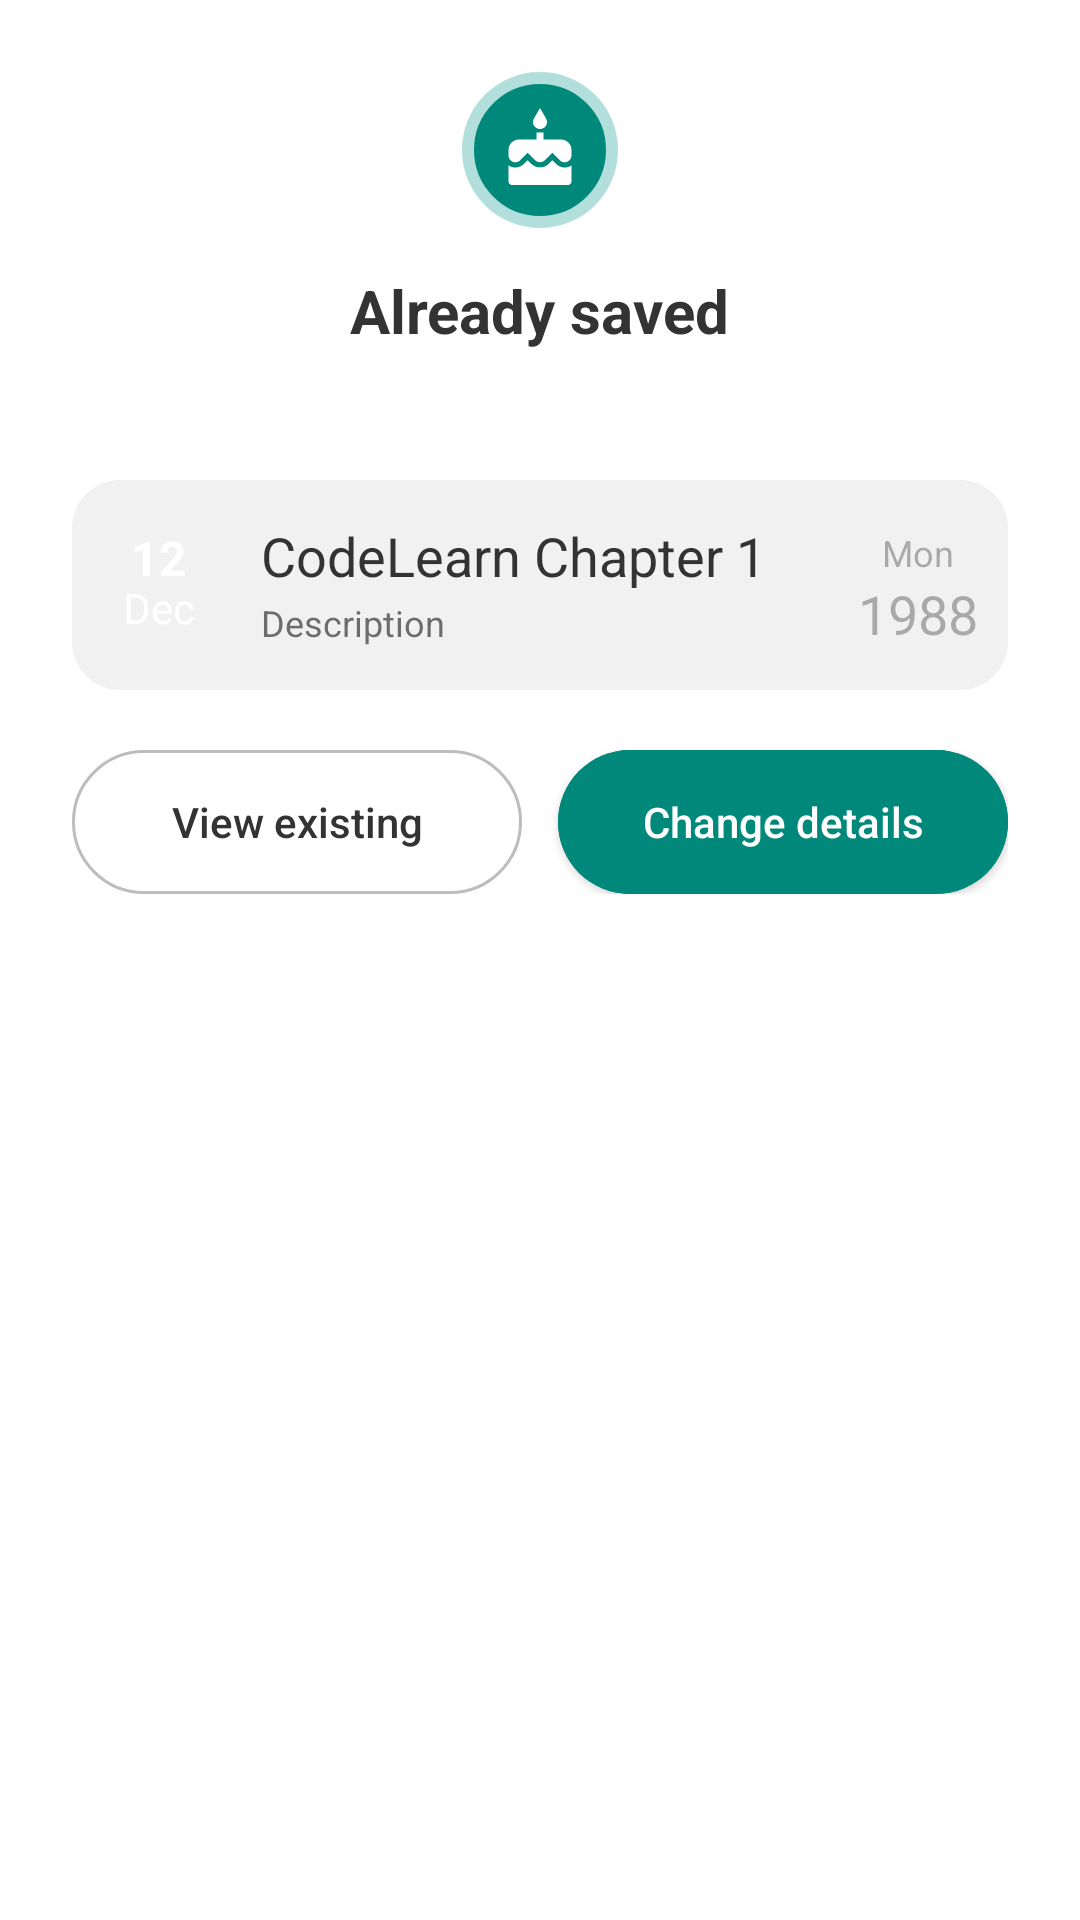

Icon bounding boxes for this 1080x1920 phone screenshot, format (x1, y1, x2, y2):
clipart: (462, 72, 618, 228)
